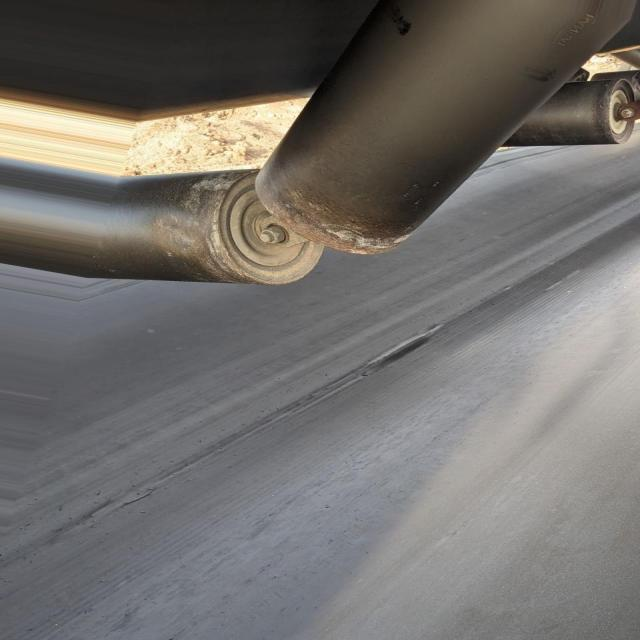Roller: (251, 2, 640, 258), (107, 170, 320, 285), (502, 77, 636, 145)
impact damage: (359, 328, 436, 378)
